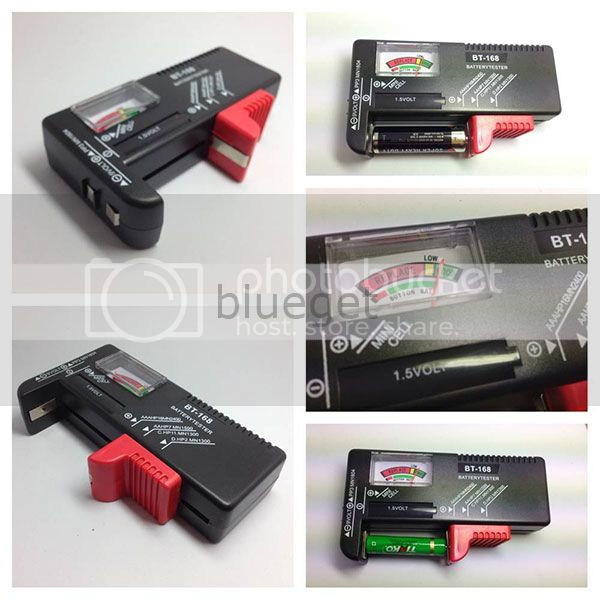Battery: (370, 130, 471, 156), (363, 534, 449, 559)
